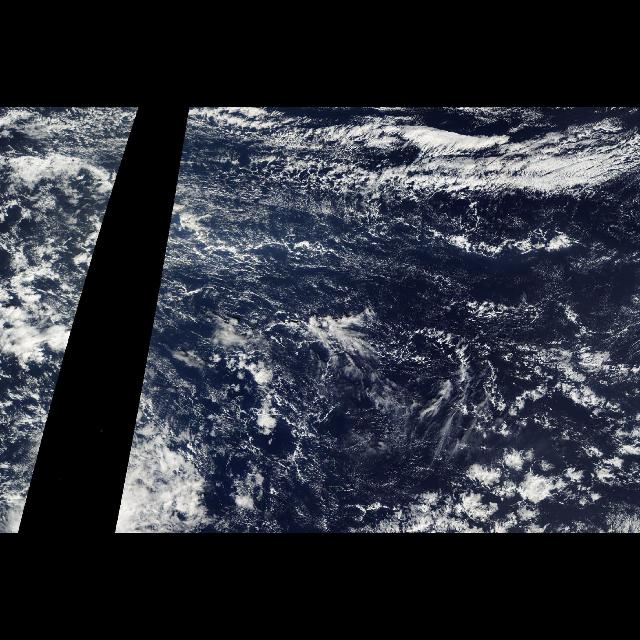Flower: (396, 446, 630, 532)
Gravel: (179, 196, 631, 446)
Sugar: (152, 190, 628, 332)
